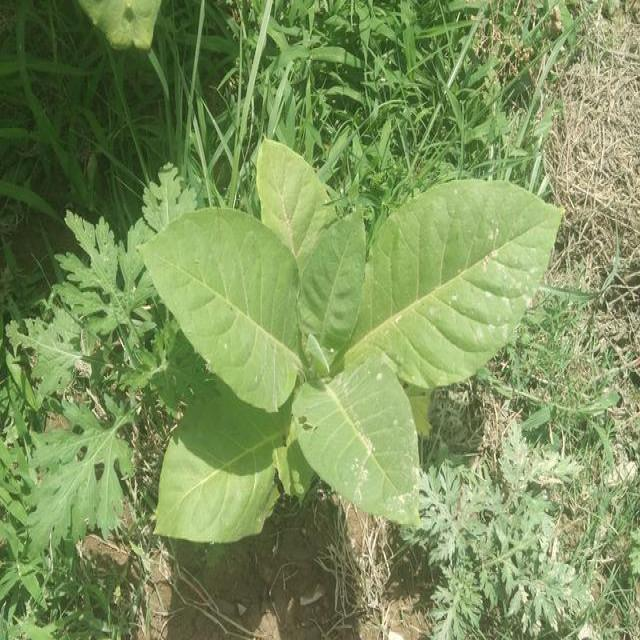crop: (140, 133, 568, 549)
